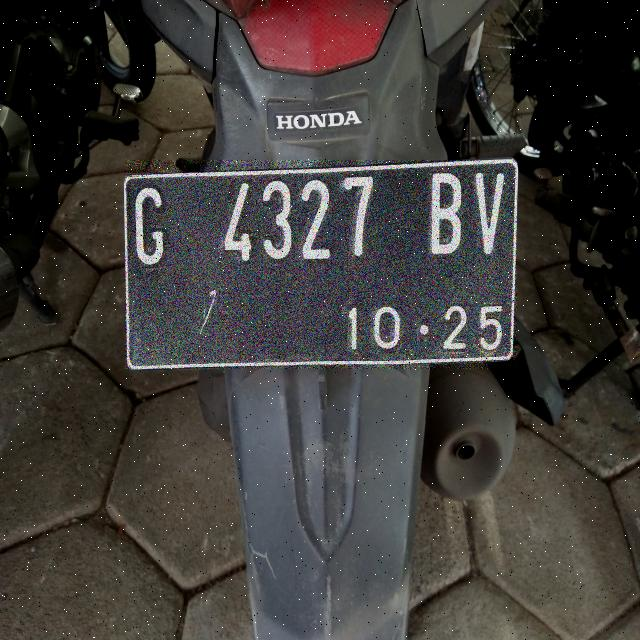plate: (125, 160, 516, 368)
